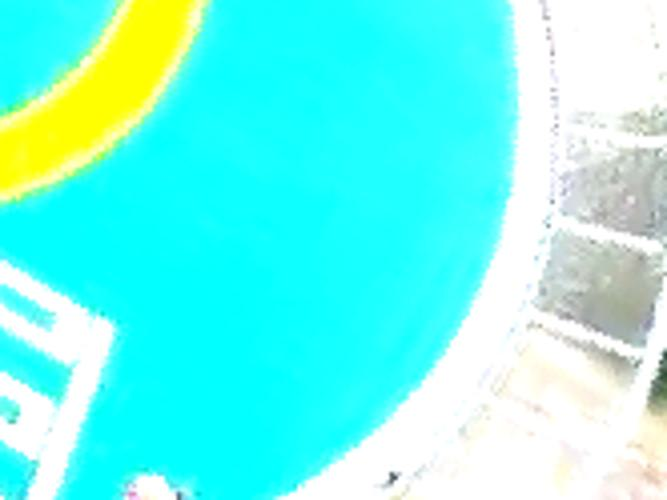Apron: (1, 2, 219, 227)
